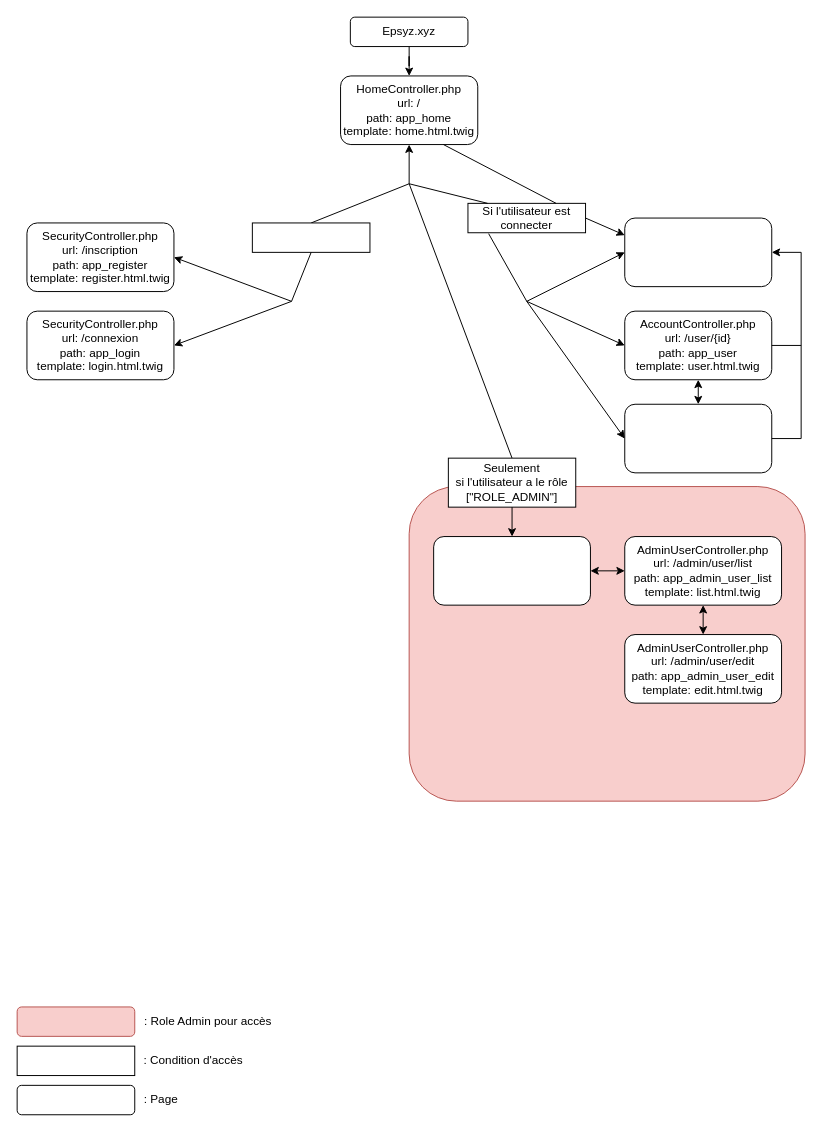
Image size: 826x1132. Some labels were removed from this diagram. Each missing label, with the box of its shape:
AccountController.php url: /user/edit path: app_user template: edit.html.twig: (624, 403, 772, 473)
AdminController.php url: /admin path: app_admin template: admin.html.twig: (433, 536, 590, 605)
SecurityController.php url: /logout path: app_logout template: "": (624, 217, 772, 287)
Si l'utilisateur est pas connecter: (251, 222, 370, 252)
